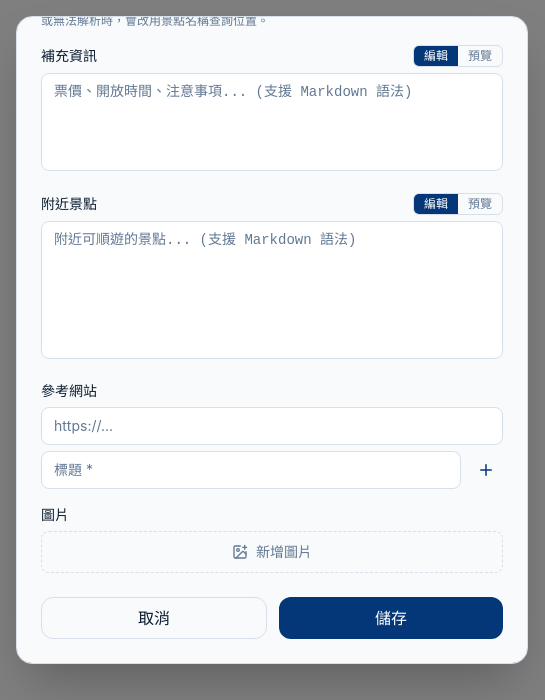
AttractionModal › shows a required-field error and does not save when the name is empty
(page scrolled)
Click the button "儲存" at (391, 618), box [279,597,503,639]
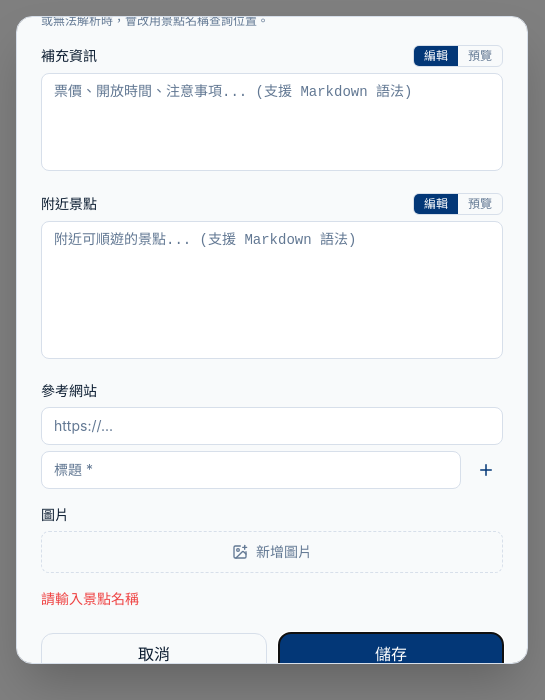
Check: the text "請輸入景點名稱" is shown, box [41,590,139,607]
